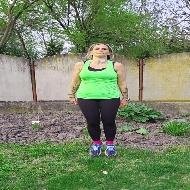jumping_jacks: (62, 40, 136, 161)
